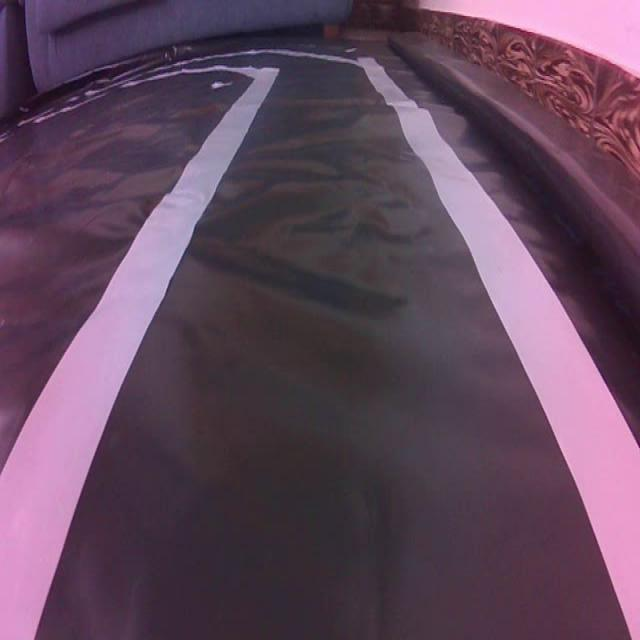LineaCarril: (358, 58, 640, 638), (0, 68, 277, 638)
